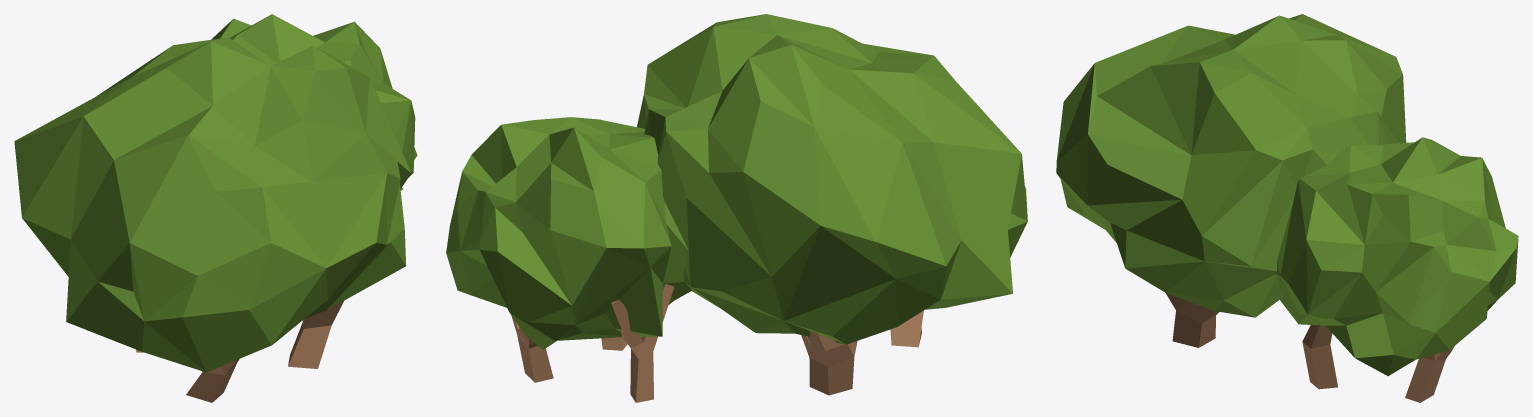
Rendered from bushes2.obj.
3 renders of one model, left to right at view 1: azimuth 30°, elevation 25°; view 2: azimuth 150°, elevation 25°; view 3: azimuth 270°, elevation 25°, orthographic. The views are drawn at different scales.
Visible parts, largest first — view 1: Bush_group_small_Plane.140; view 2: Bush_group_small_Plane.140; view 3: Bush_group_small_Plane.140.
Boxes of the visible parts, bbox=[...] form: Bush_group_small_Plane.140: bbox=[14, 14, 417, 402]; Bush_group_small_Plane.140: bbox=[446, 14, 1027, 402]; Bush_group_small_Plane.140: bbox=[1056, 14, 1518, 402].
Bounding box in the file's own units: 3.02 × 2.01 × 2.8.
